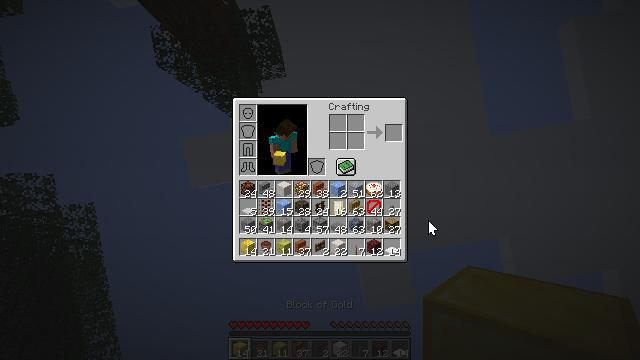cursor: (428, 220, 438, 236)
